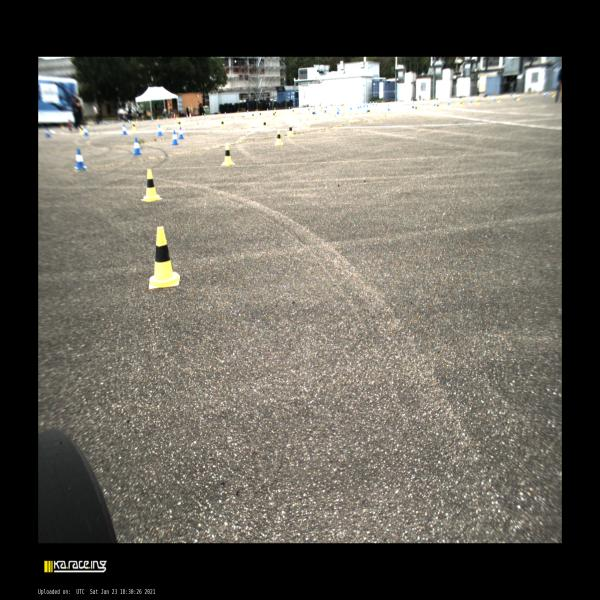blue_cone: (74, 147, 87, 170), (133, 138, 141, 155), (171, 130, 179, 145), (178, 127, 184, 139), (157, 124, 163, 136), (122, 124, 127, 135), (84, 128, 88, 136), (470, 97, 473, 102), (337, 107, 339, 114), (388, 104, 390, 111), (314, 108, 316, 114), (412, 102, 414, 108), (448, 99, 450, 105), (324, 107, 326, 112), (338, 105, 340, 110), (366, 107, 368, 112), (186, 114, 188, 118), (288, 106, 290, 110), (372, 102, 374, 105), (204, 113, 206, 116), (434, 100, 435, 106), (376, 102, 377, 106), (247, 110, 248, 113), (267, 108, 268, 111), (370, 102, 371, 104), (225, 112, 226, 114)
large_orange_cone: (174, 113, 175, 118)
yellow_cone: (149, 226, 180, 288), (142, 168, 163, 202), (221, 143, 235, 166), (274, 128, 283, 144), (287, 124, 294, 137), (220, 120, 225, 128), (262, 120, 266, 129), (132, 122, 136, 130), (178, 121, 182, 128), (272, 113, 276, 118), (312, 112, 315, 117), (320, 107, 323, 112), (460, 100, 462, 107), (368, 108, 370, 114), (477, 99, 479, 105), (308, 107, 310, 113), (252, 113, 254, 118), (260, 112, 262, 117), (274, 111, 276, 116), (292, 109, 294, 114), (415, 106, 417, 111), (436, 104, 438, 109), (176, 115, 178, 119), (256, 108, 258, 112), (157, 117, 159, 120), (237, 110, 239, 113), (219, 112, 221, 114), (274, 108, 276, 110), (202, 113, 203, 116), (292, 106, 292, 109)
